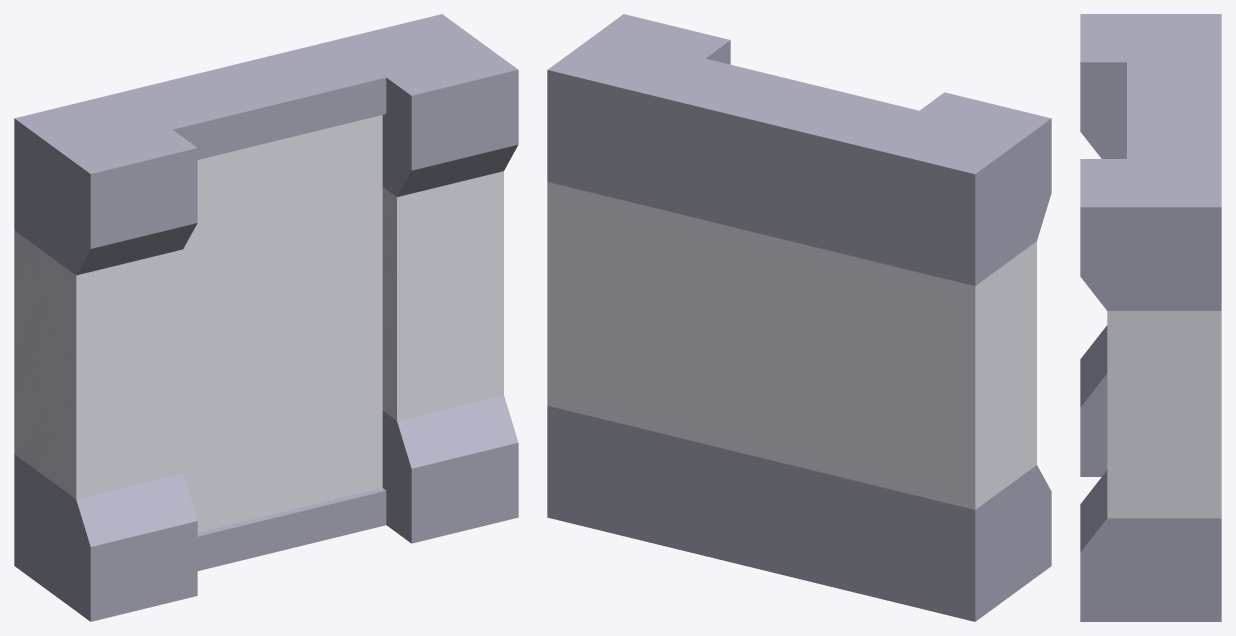
File: Wall_1.fbx
3 renders of one model, left to right at view 1: azimuth 30°, elevation 25°; view 2: azimuth 150°, elevation 25°; view 3: azimuth 270°, elevation 25°, orthographic. The views are drawn at different scales.
Parts seen in each view (by area): view 1: Wall_1; view 2: Wall_1; view 3: Wall_1.
Part boxes in pixels (x1,y1,x2,y2): Wall_1: [14, 14, 518, 621]; Wall_1: [547, 14, 1051, 621]; Wall_1: [1080, 14, 1221, 621].
Bounding box in the file's own units: 6.8 × 6.8 × 2.1.
